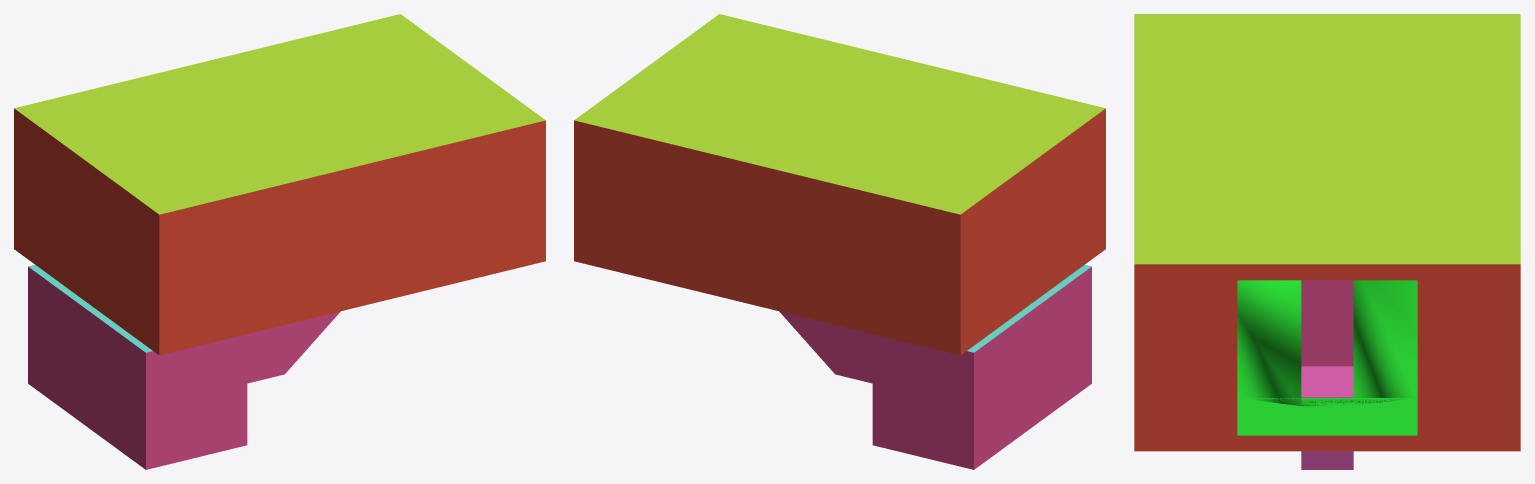
The model's file is BasementGarageColl.fbx.
3 renders of one model, left to right at view 1: azimuth 30°, elevation 25°; view 2: azimuth 150°, elevation 25°; view 3: azimuth 270°, elevation 25°, orthographic. The views are drawn at different scales.
Parts seen in each view (by area): view 1: garage; view 2: garage; view 3: garage.
Boxes of the visible parts, x1,y1,x2,y2 form: garage: (14, 14, 545, 469); garage: (574, 14, 1105, 469); garage: (1134, 14, 1520, 469).
Size of what is drawn, in the model's own units: 690 by 453 by 450.
